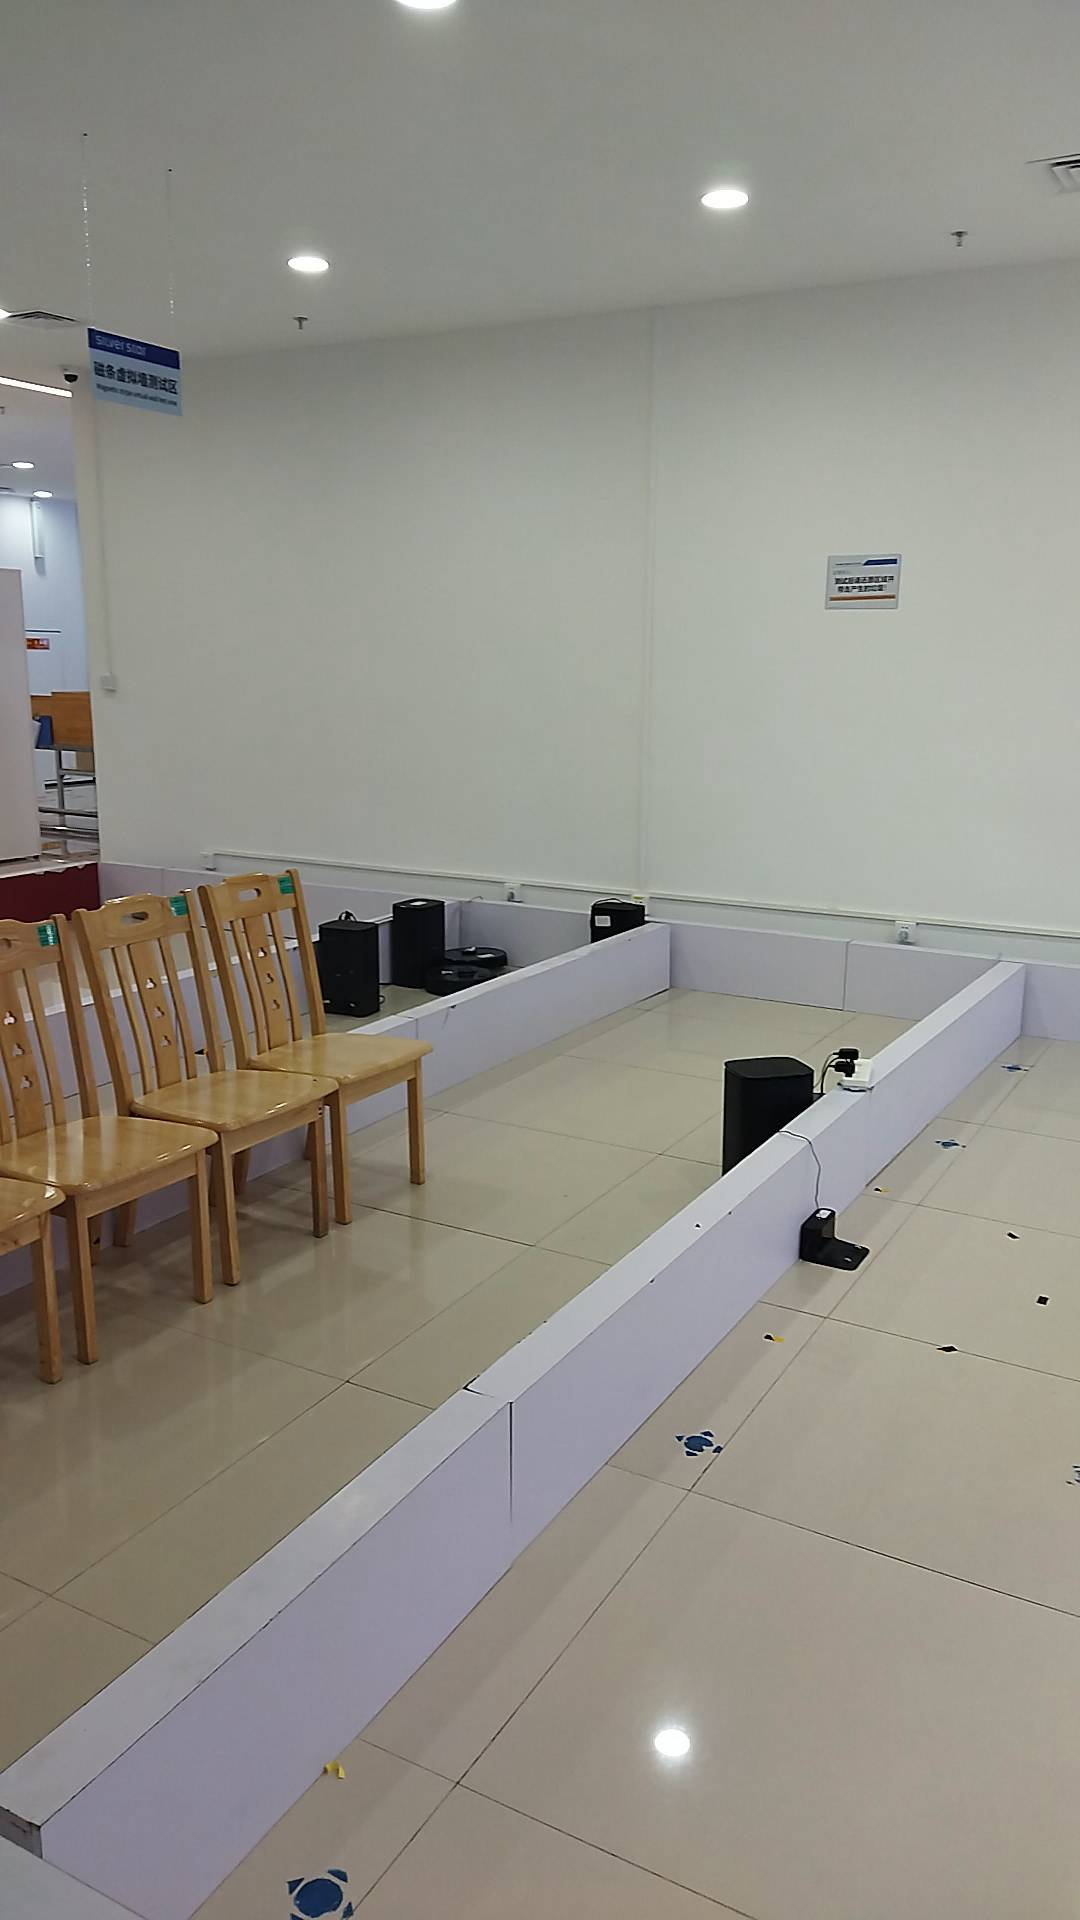dust collecting barrel: (723, 1056, 814, 1179), (311, 918, 382, 1021), (392, 895, 444, 985)
recharge seat: (800, 1204, 873, 1274)
